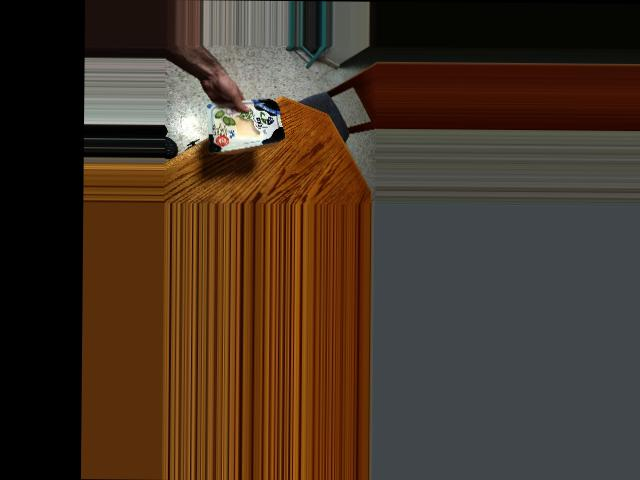cheese: (217, 88, 279, 151)
